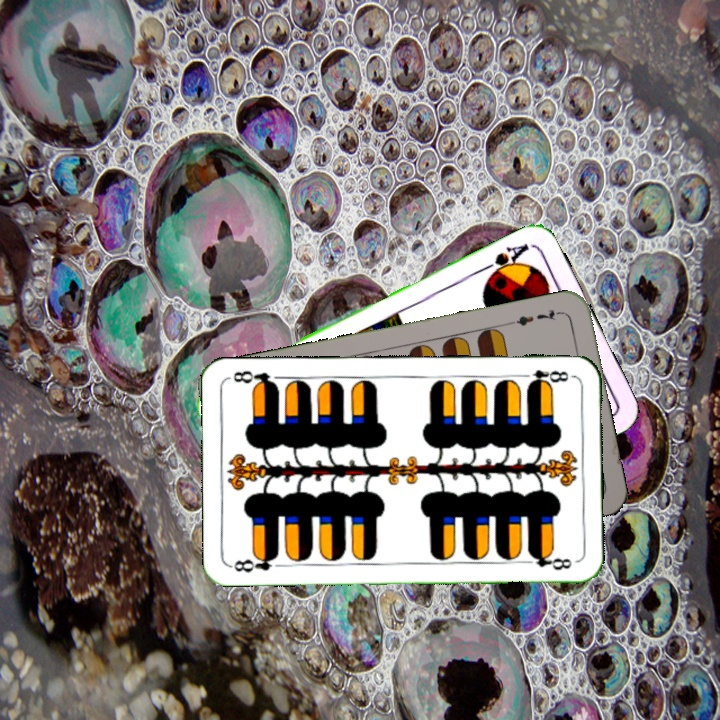E7: (506, 305, 564, 329)
E8: (516, 366, 575, 389), (228, 550, 281, 575)
SA: (478, 239, 532, 282)
